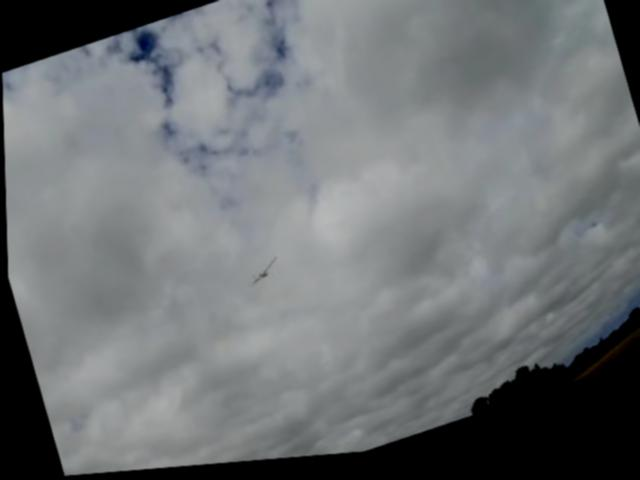uav: (233, 254, 286, 303)
